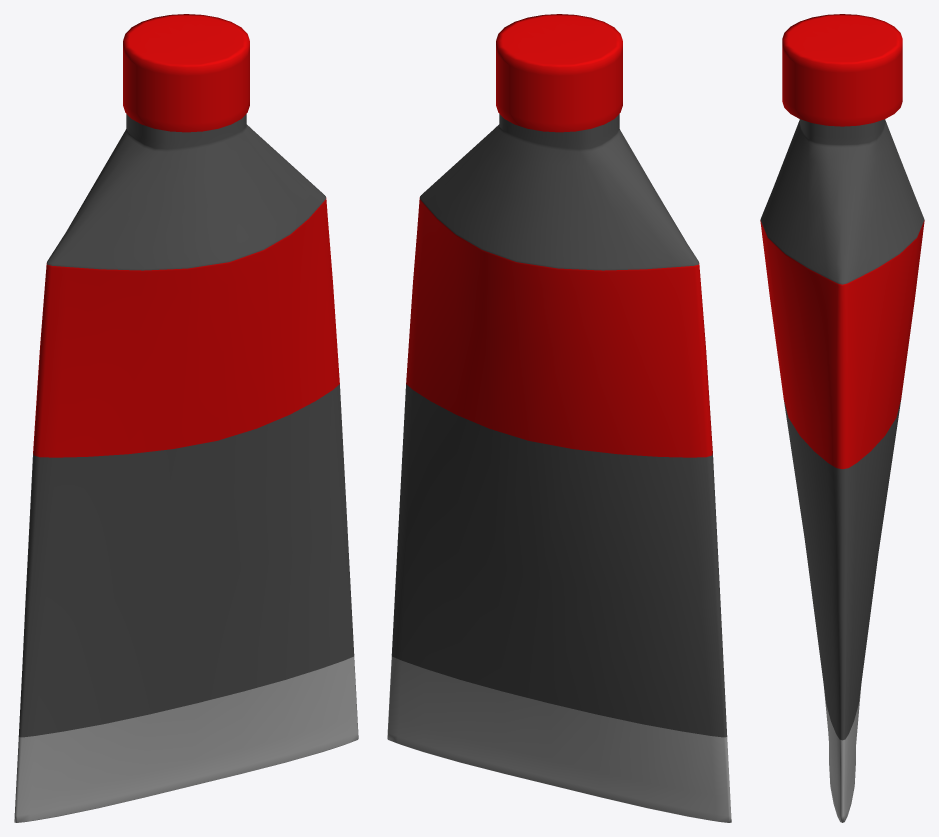
The model's file is pintura_roja.fbx.
3 renders of one model, left to right at view 1: azimuth 30°, elevation 25°; view 2: azimuth 150°, elevation 25°; view 3: azimuth 270°, elevation 25°, orthographic. The views are drawn at different scales.
Parts seen in each view (by area): view 1: pCylinder3; view 2: pCylinder3; view 3: pCylinder3.
Boxes of the visible parts, <box> form: pCylinder3: <box>14,14,358,822</box>; pCylinder3: <box>387,14,731,822</box>; pCylinder3: <box>760,14,924,822</box>.
Bounding box in the file's own units: 2.26 × 4.65 × 0.9799.
